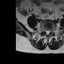CCS_normal: (46, 29, 48, 36)
LFS_severe_stenosis: (50, 29, 52, 33)
LLS_normal: (48, 29, 50, 34)
RFS_severe_stenosis: (43, 28, 45, 33)
RLS_normal: (45, 29, 46, 34)
